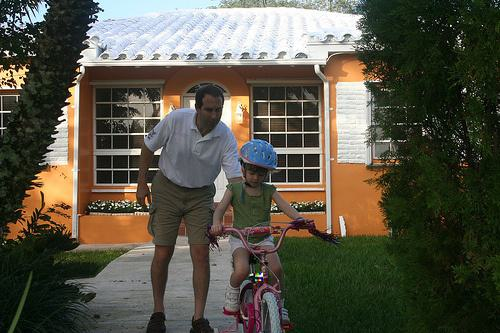car: (205, 221, 313, 333)
person: (136, 85, 242, 333), (209, 142, 309, 326)
